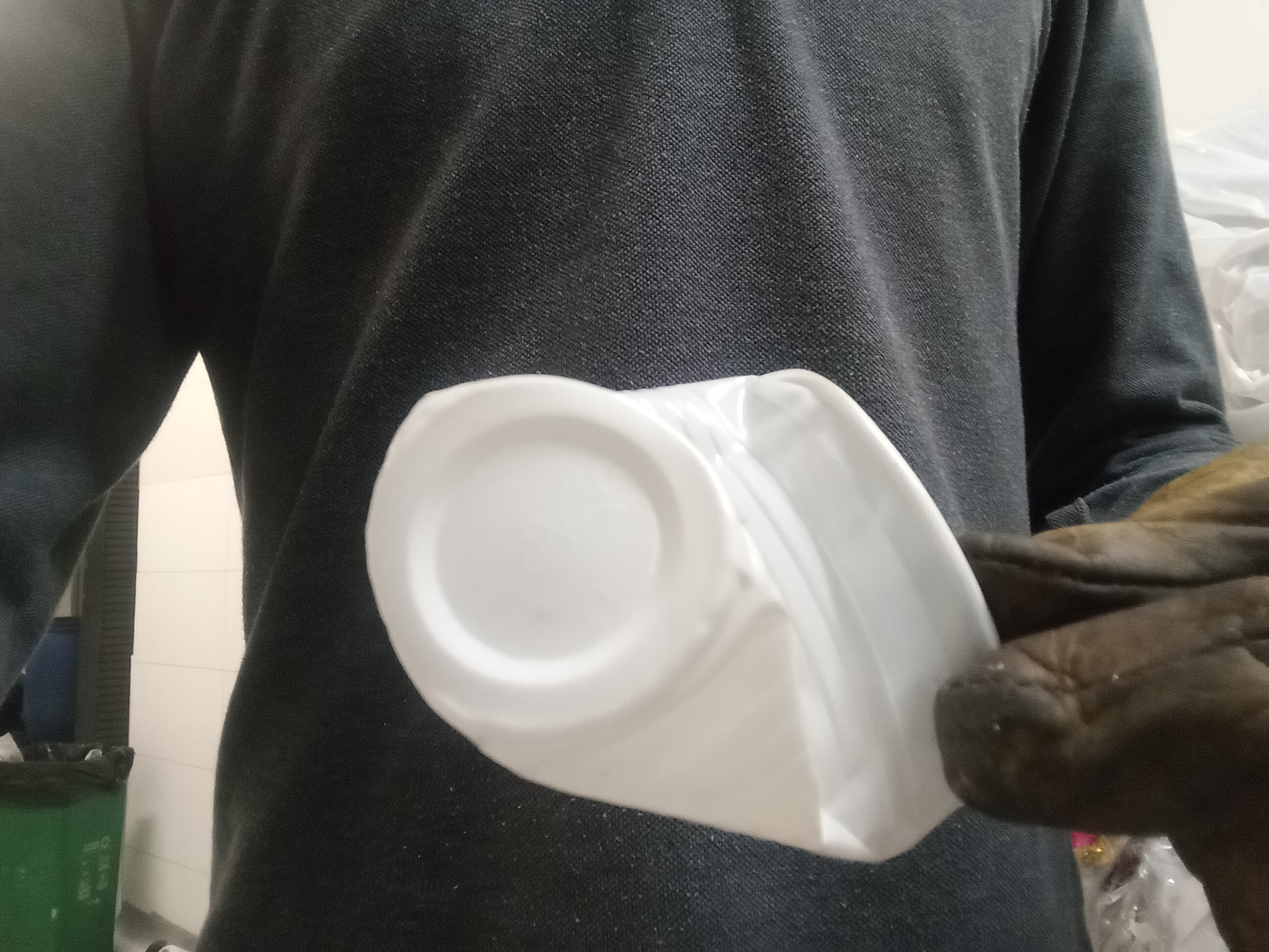Plastico: (365, 370, 1000, 864)
